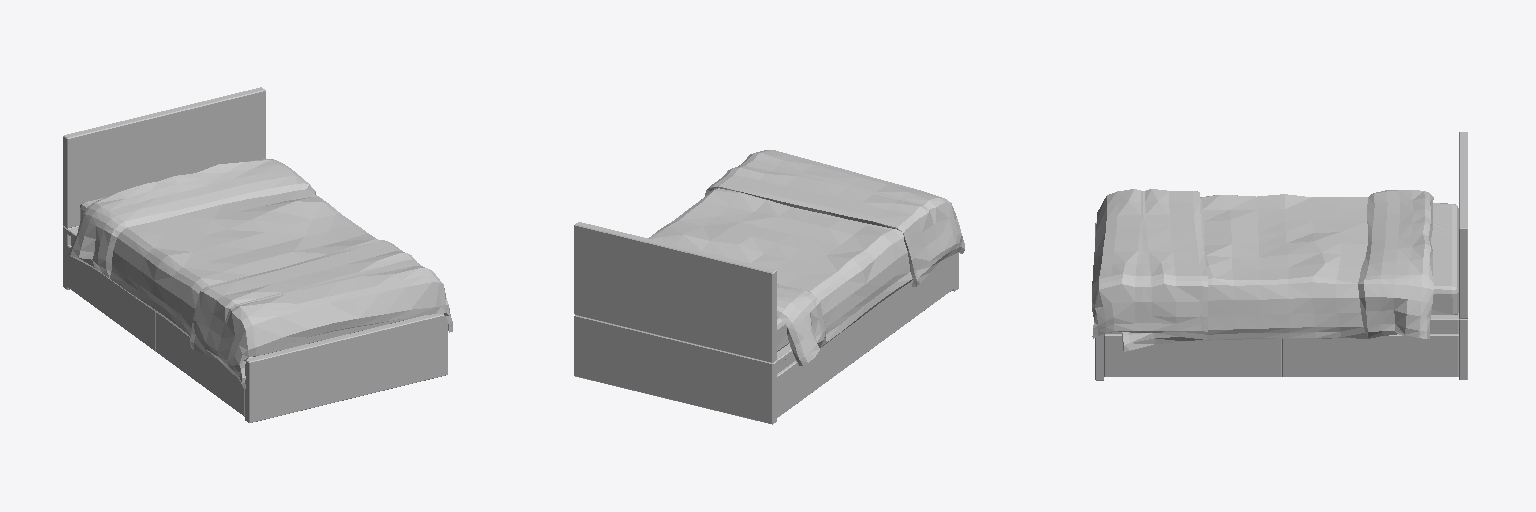
Rendered from scaledbed.obj.
3 views of the same model, side by side, from view 1: azimuth 30°, elevation 25°; view 2: azimuth 150°, elevation 25°; view 3: azimuth 270°, elevation 25° (orthographic).
Visible parts, largest first — view 1: EdithRoomBed_a_Internal; view 2: EdithRoomBed_a_Internal; view 3: EdithRoomBed_a_Internal.
Part boxes in pixels (bbox=[...]): EdithRoomBed_a_Internal: bbox=[63, 87, 452, 422]; EdithRoomBed_a_Internal: bbox=[574, 150, 964, 424]; EdithRoomBed_a_Internal: bbox=[1092, 132, 1467, 380].
Bounding box in the file's own units: 14.22 × 8.89 × 19.94.